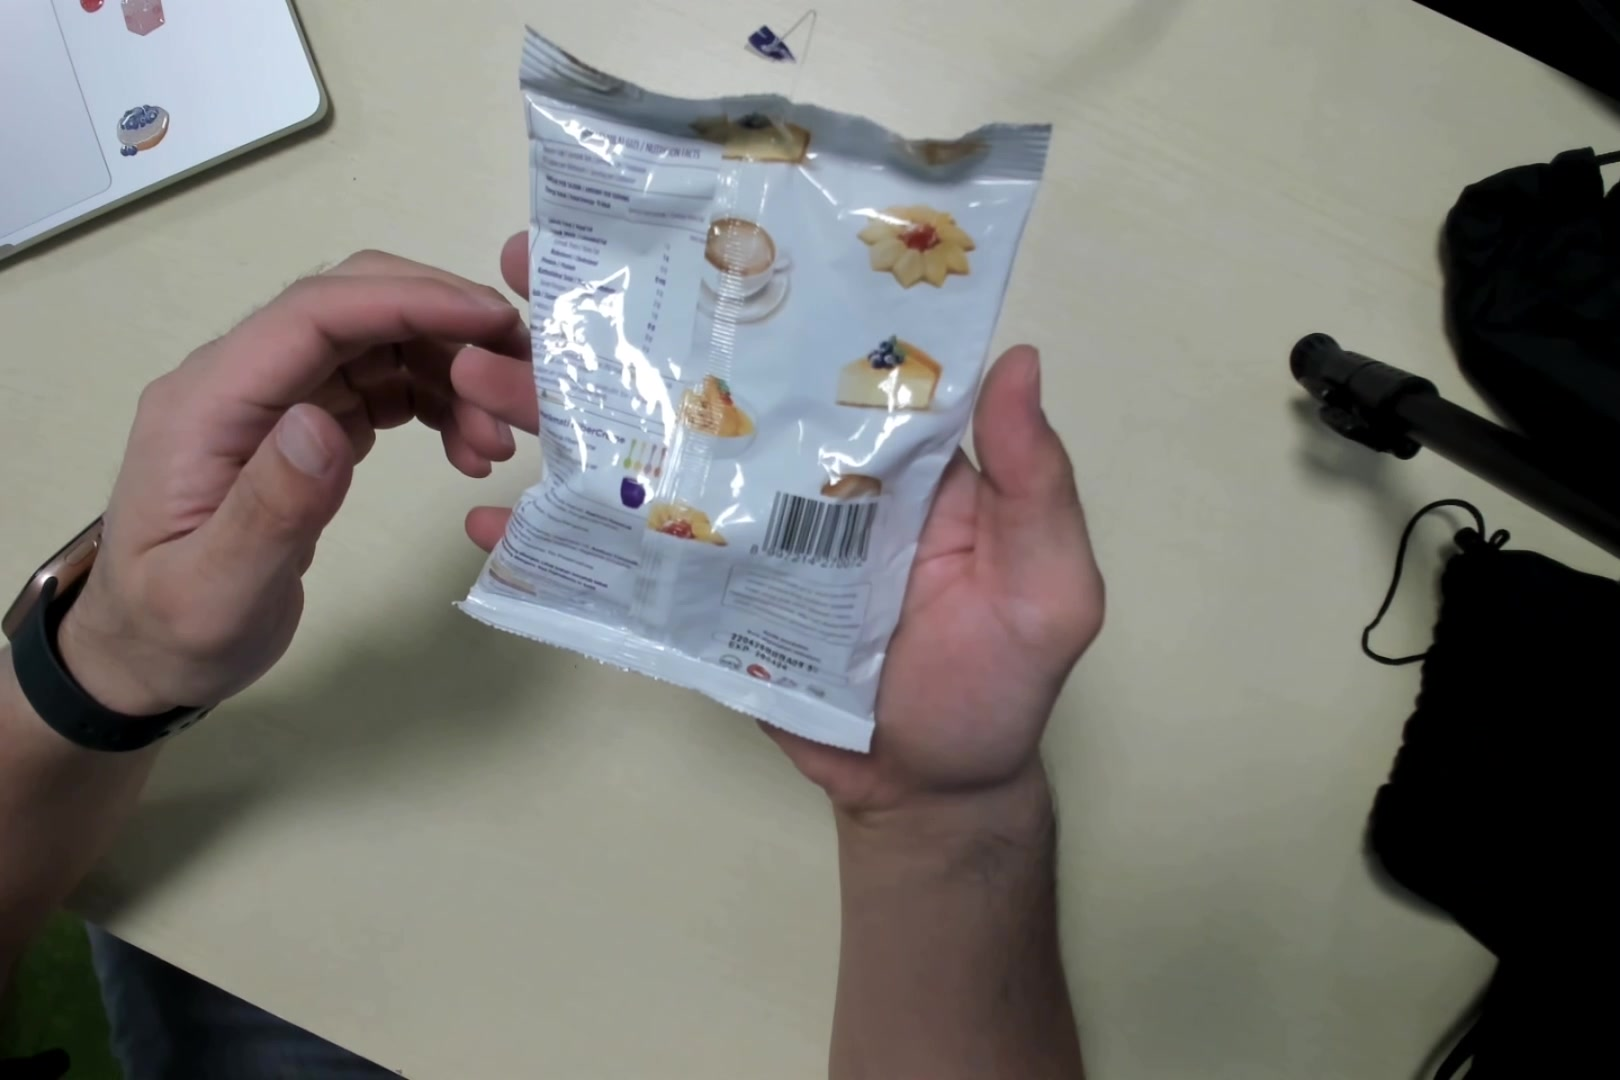OtherBakingNeeds_100-199g_Halal_NonHealthy: (460, 28, 1053, 758)
